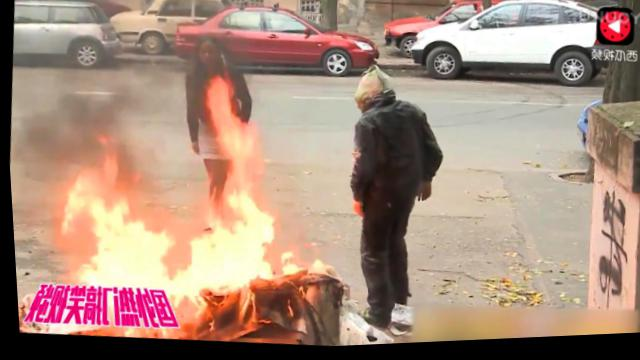fire: (78, 226, 172, 295), (216, 193, 279, 284), (218, 118, 267, 199), (181, 230, 227, 299), (82, 192, 146, 234), (53, 173, 89, 243), (81, 154, 121, 196), (205, 79, 232, 129), (161, 268, 189, 303), (269, 249, 300, 278)
